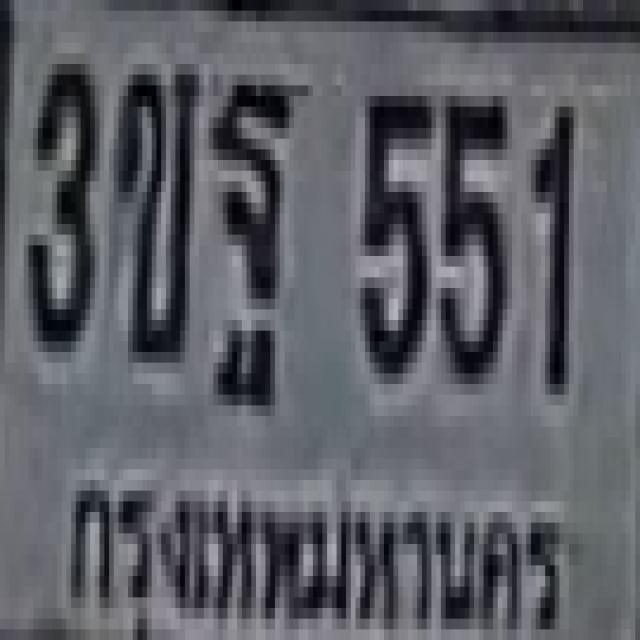1: (531, 96, 569, 384)
3: (24, 54, 95, 342)
5: (356, 85, 426, 374), (436, 85, 503, 374)
A02: (114, 53, 194, 352)
A16: (209, 75, 289, 352)
BKK: (60, 458, 572, 640)
